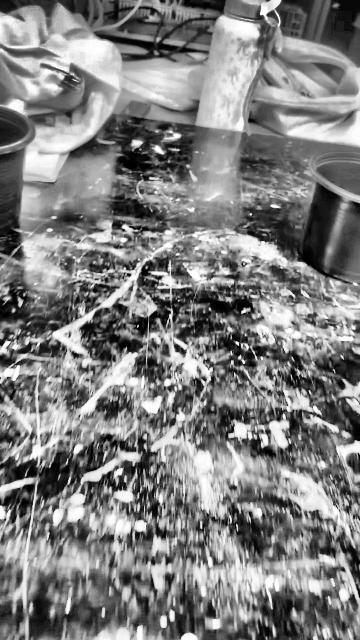pot: (301, 151, 359, 283), (0, 107, 35, 237)
